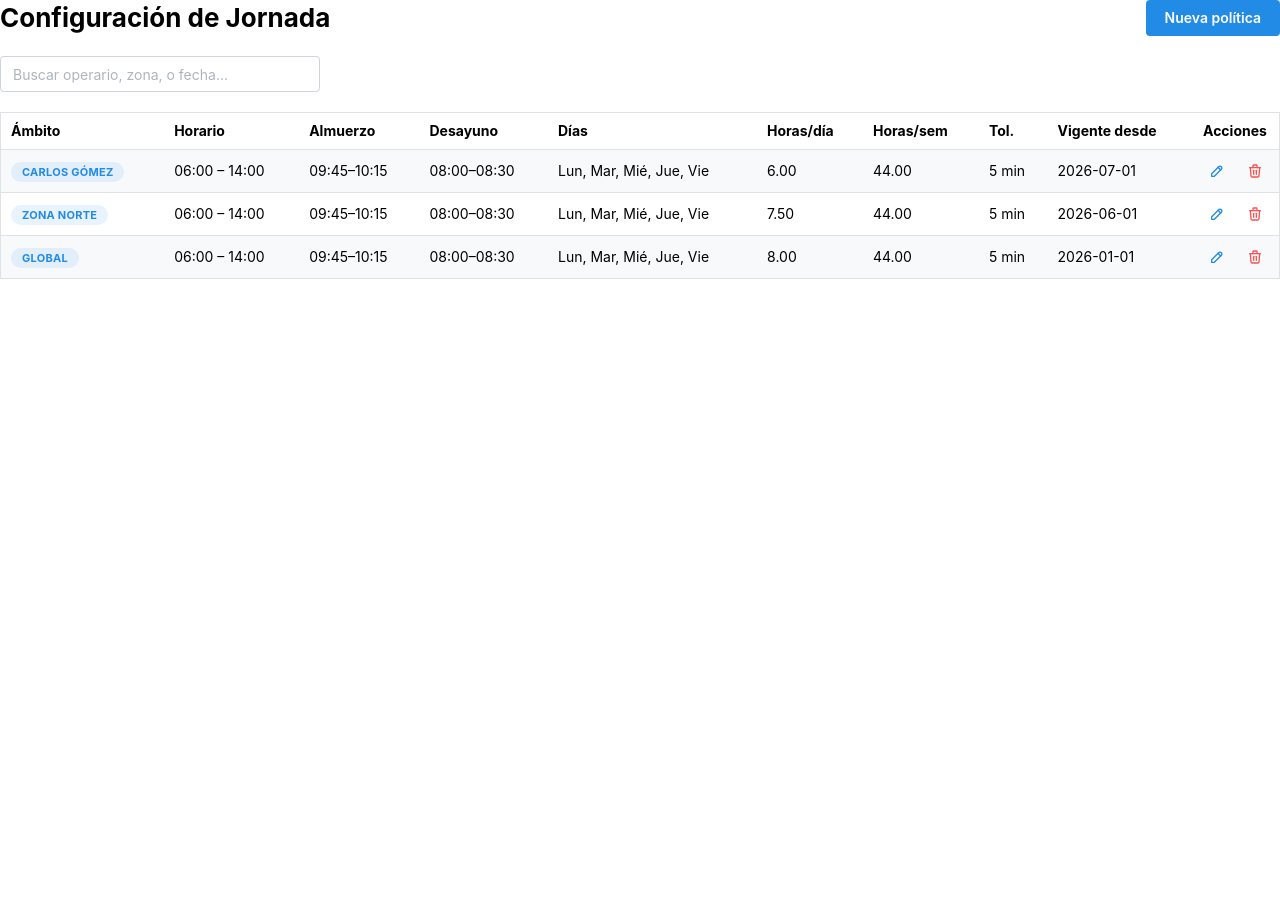
Test: ConfigJornadaPage › opens create modal when clicking "Nueva política"
Click the button "Nueva política": (1213, 18) [1146,0,1279,36]
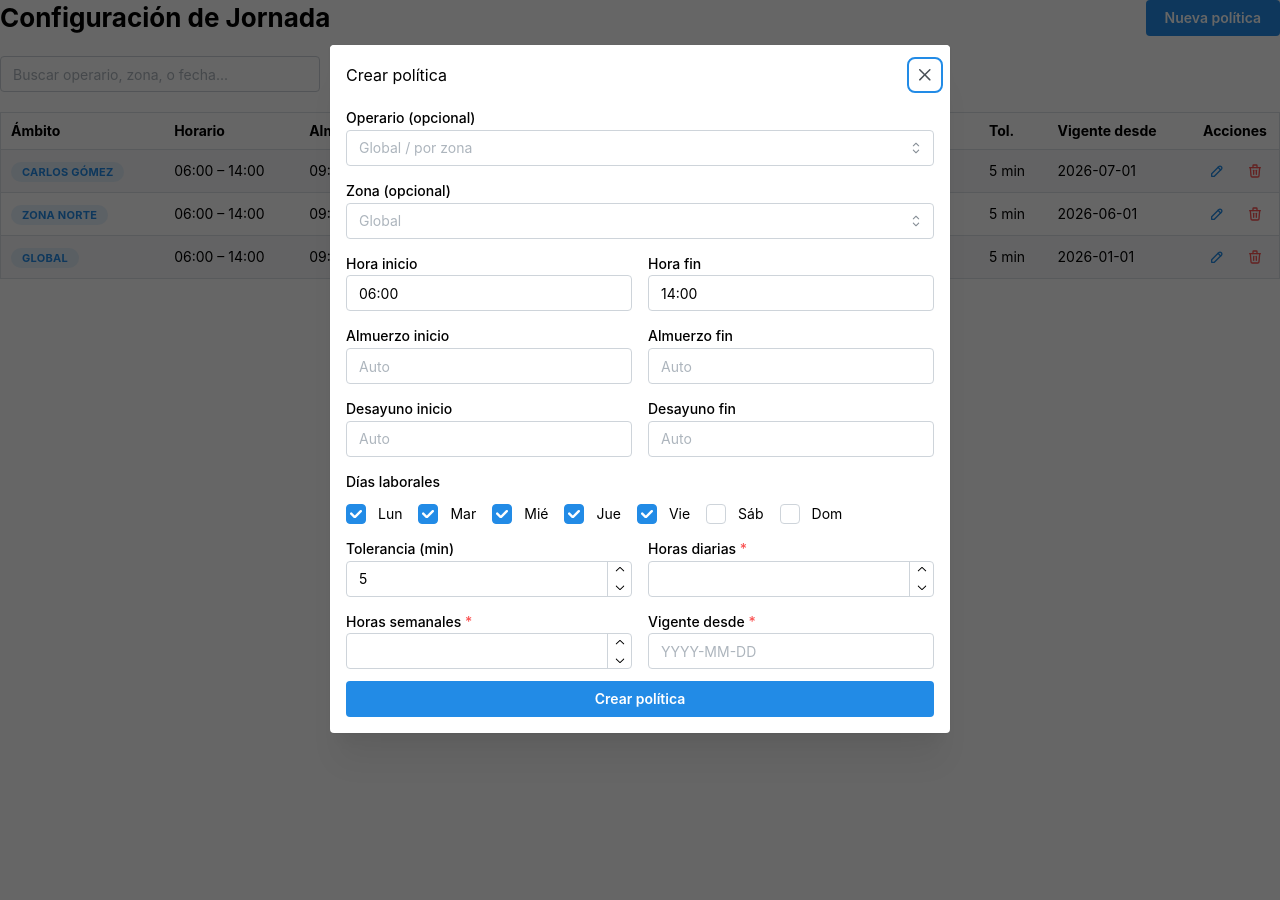
Now the dialog is shown, box [330,45,950,733]
Now the field labelled "Hora inicio" is shown, box [346,275,632,311]
Now the field labelled "Hora fin" is shown, box [648,275,934,311]
